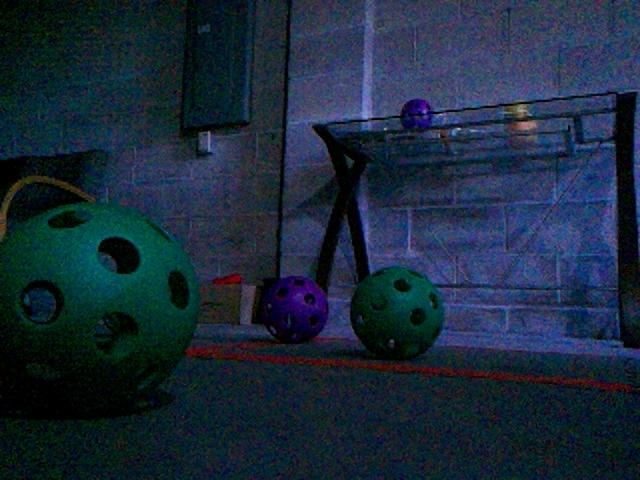Green: (0, 200, 202, 413), (348, 265, 447, 358)
Purple: (256, 274, 329, 344), (399, 98, 434, 131)
